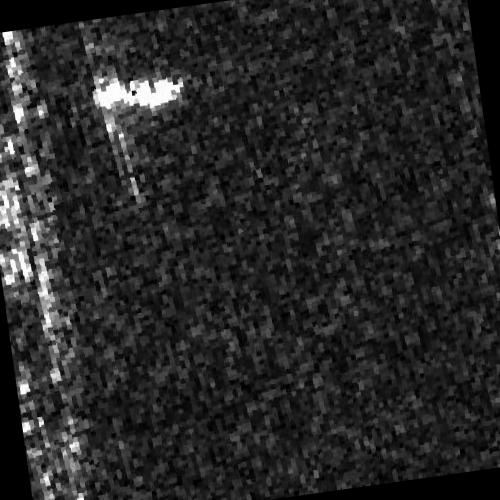ship: (92, 75, 184, 112)
